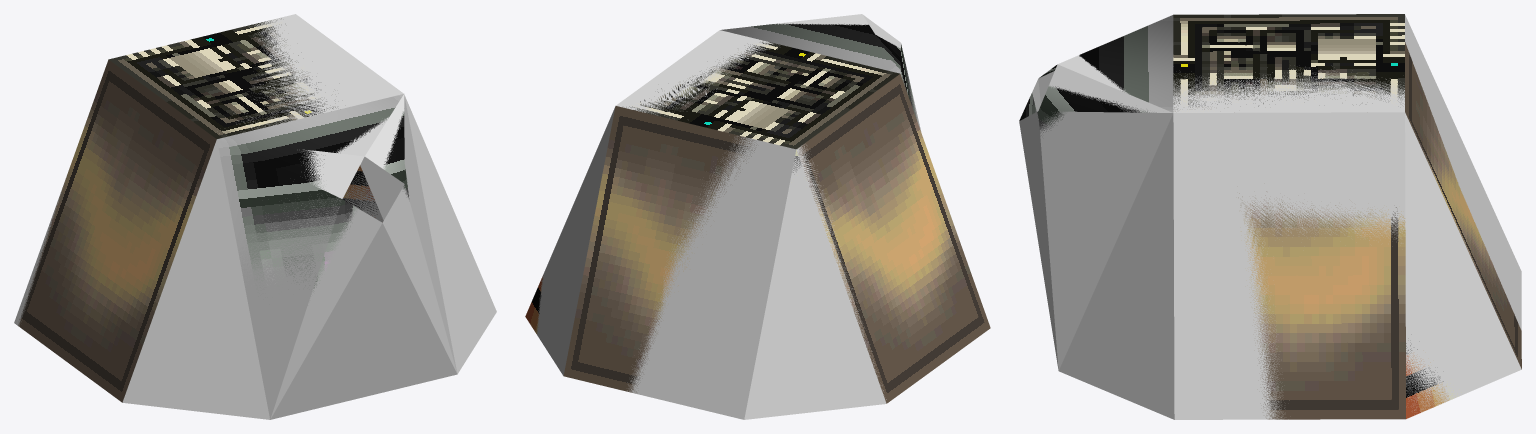
Rendered from turrentsinarma.fbx.
The picture shows the model from 3 angles, left to right: view 1: azimuth 30°, elevation 25°; view 2: azimuth 150°, elevation 25°; view 3: azimuth 270°, elevation 25°; orthographic projection. The views are drawn at different scales.
Parts seen in each view (by area): view 1: turret, copper, silver, lightmachine, redpipe; view 2: copper, turret, lightmachine, silver, redpipe; view 3: turret, copper, lightmachine, silver, redpipe.
Part boxes in pixels (x1=…): turret: x1=14, y1=14, x2=496, y2=419; copper: x1=18, y1=59, x2=216, y2=402; silver: x1=217, y1=94, x2=409, y2=297; lightmachine: x1=109, y1=18, x2=335, y2=138; redpipe: x1=342, y1=165, x2=378, y2=217; copper: x1=563, y1=74, x2=990, y2=403; turret: x1=536, y1=14, x2=921, y2=419; lightmachine: x1=626, y1=42, x2=899, y2=149; silver: x1=720, y1=23, x2=916, y2=119; redpipe: x1=525, y1=150, x2=800, y2=333; turret: x1=1019, y1=15, x2=1521, y2=419; copper: x1=1238, y1=42, x2=1521, y2=419; lightmachine: x1=1173, y1=14, x2=1404, y2=111; silver: x1=1019, y1=15, x2=1173, y2=135; redpipe: x1=1406, y1=343, x2=1458, y2=418.
Size of the model in its own units: 9605 by 5932 by 10417.
8 materials, 4 textured.
